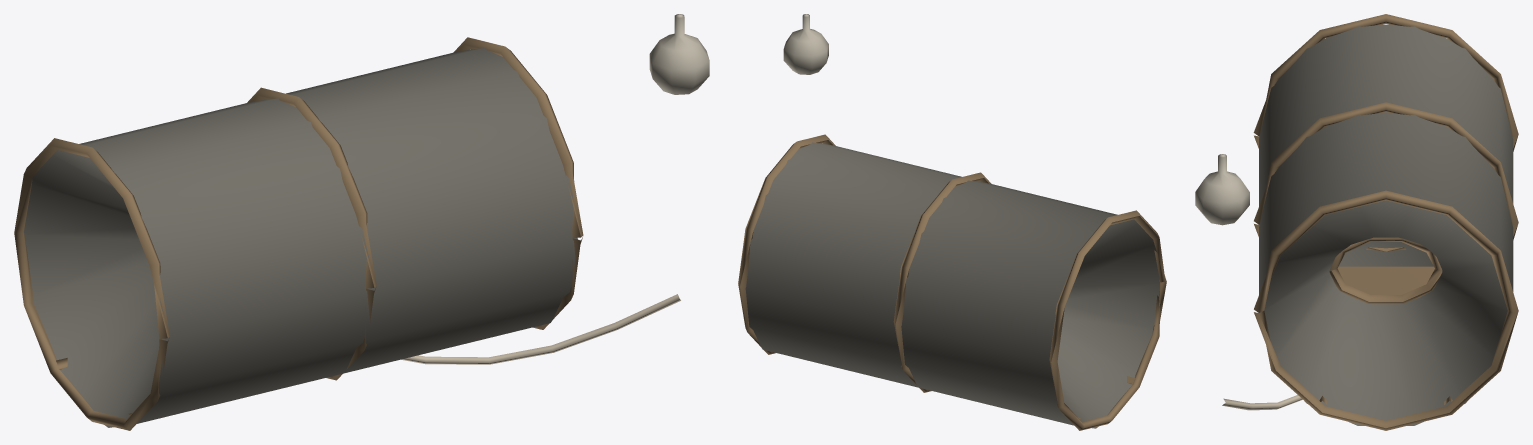
The model's file is ch5-trap.glb.
3 renders of one model, left to right at view 1: azimuth 30°, elevation 25°; view 2: azimuth 150°, elevation 25°; view 3: azimuth 270°, elevation 25°, orthographic. The views are drawn at different scales.
Visible parts, largest first — view 1: trap_mesh, trap, float, rope; view 2: trap_mesh, trap, float; view 3: trap_mesh, trap, float, rope.
Part boxes in pixels (x1,y1,x2,y2): trap_mesh: (24,48,577,427); trap: (14,37,583,430); float: (649,14,709,94); rope: (401,294,680,364); trap_mesh: (745,142,1159,428); trap: (738,134,1166,430); float: (783,14,828,74); trap_mesh: (1259,24,1513,425); trap: (1253,14,1518,430); float: (1195,154,1249,225); rope: (1222,395,1302,410).
Bounding box in the file's own units: 0.5861 × 0.3781 × 0.356.
